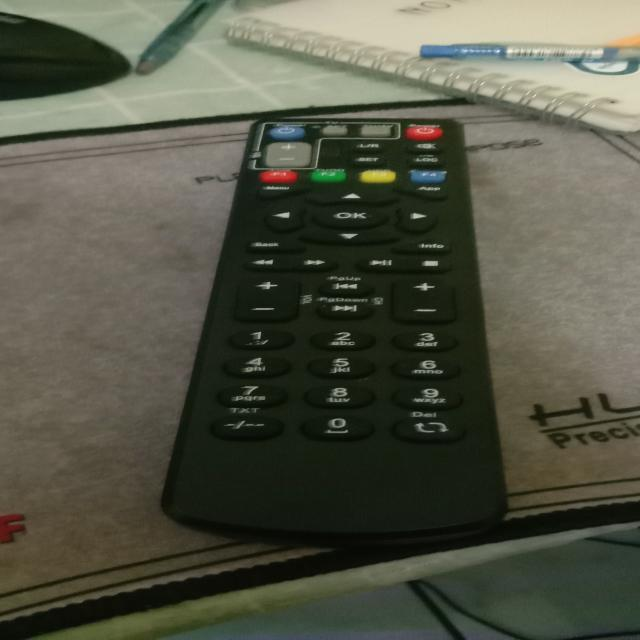remote: (151, 106, 518, 526)
